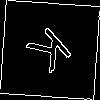K: (25, 25, 80, 82)
